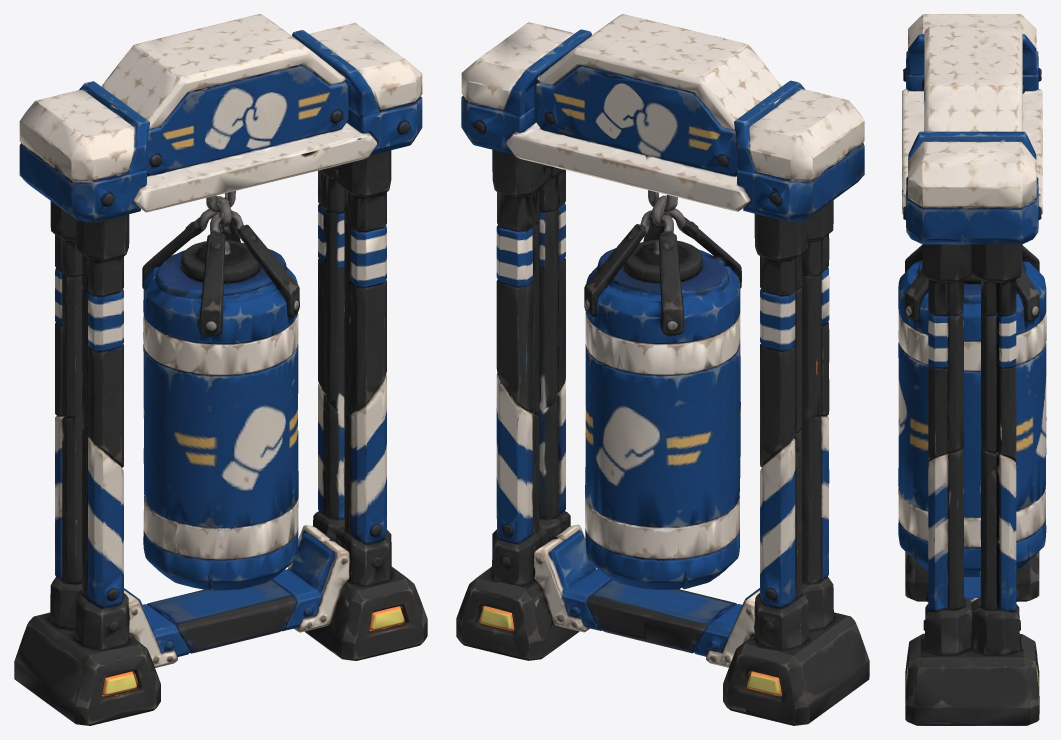
The model's file is punching-bag.glb.
3 views of the same model, side by side, from view 1: azimuth 30°, elevation 25°; view 2: azimuth 150°, elevation 25°; view 3: azimuth 270°, elevation 25° (orthographic). The views are drawn at different scales.
Bounding box in the file's own units: 1.14 × 1.9 × 0.4344.
Materials: 1 (1 with a texture image).
